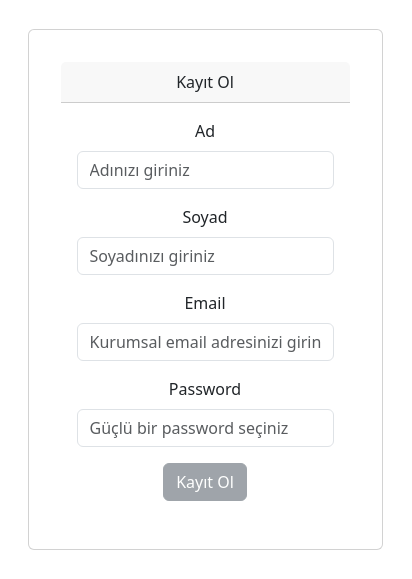
Test: Register Page › Error Messages › Email input throws error for emre@wit.
The width and height of the screenshot is (412, 579).
Step 1. Type "emre@wit." into the field with test id "email-input" → {"x": 206, "y": 342}, box [77, 323, 334, 361]
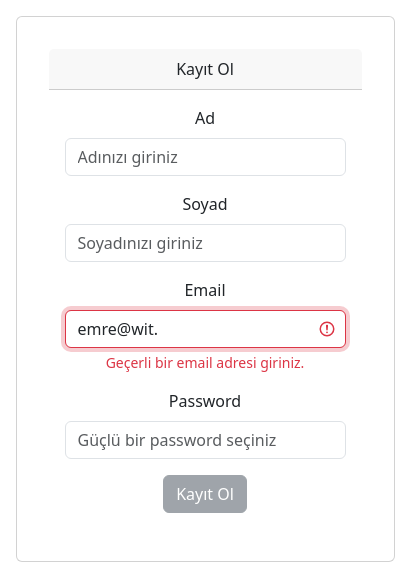
expect the text "Geçerli bir email adresi giriniz." is shown: met, box [106, 353, 304, 372]
